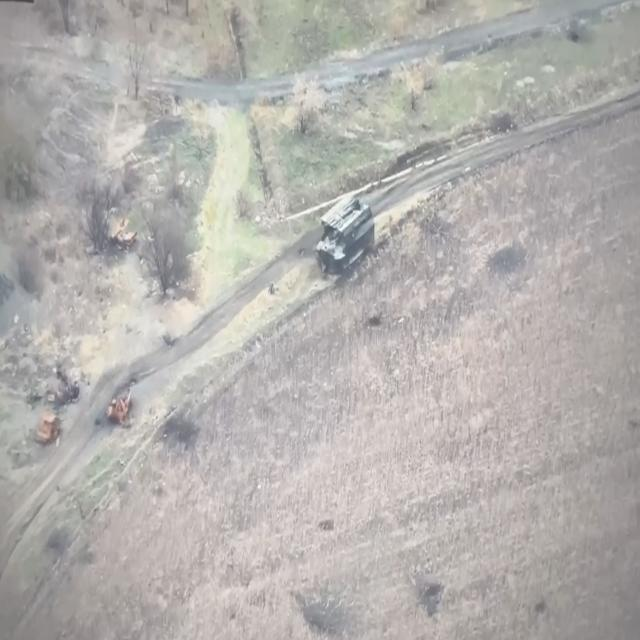vehicle: (316, 196, 374, 278)
